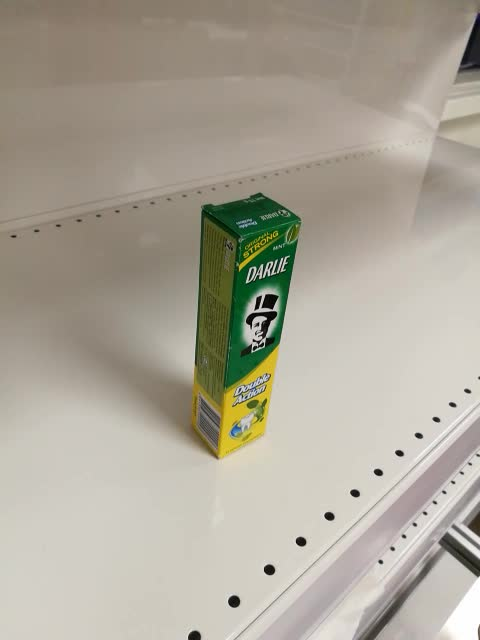toothpaste: (189, 192, 302, 460)
